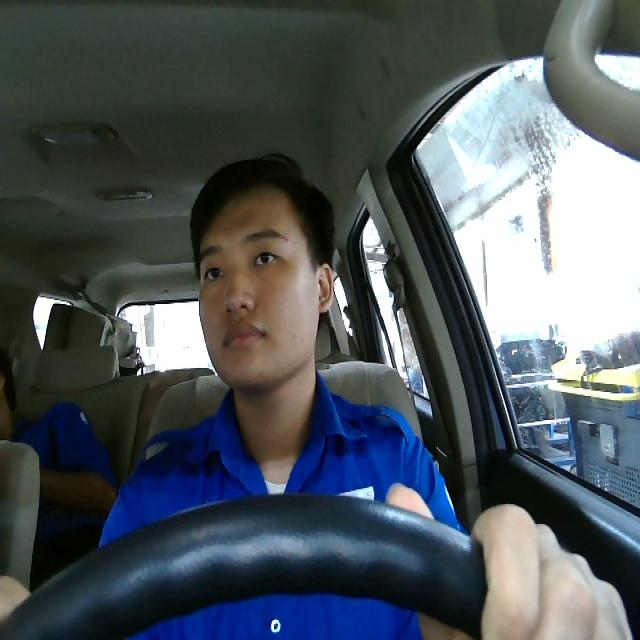seeing_left: (196, 180, 333, 392)
